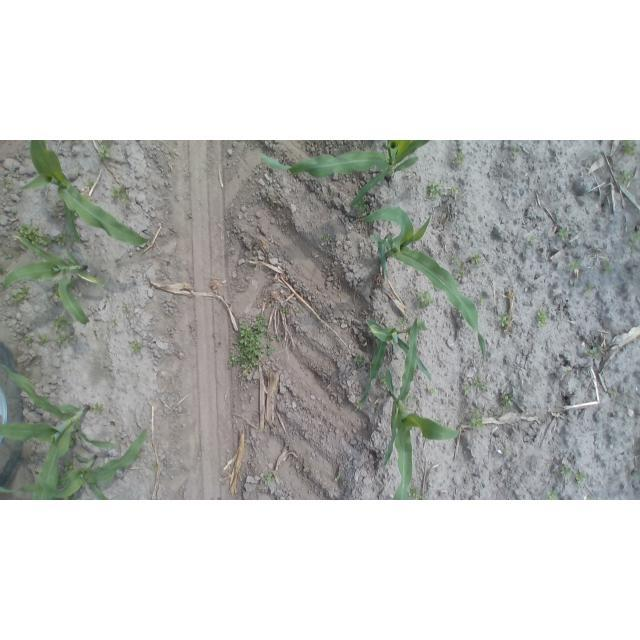Maize: (365, 207, 491, 370), (379, 320, 463, 500), (15, 140, 153, 248), (1, 357, 88, 500), (259, 141, 434, 207), (2, 428, 150, 501), (1, 235, 102, 325), (359, 315, 433, 410)
Weeds: (226, 313, 276, 376), (19, 224, 53, 249), (10, 285, 31, 305), (54, 230, 78, 247), (52, 315, 73, 333), (111, 185, 132, 202), (500, 394, 515, 417), (418, 290, 435, 310), (468, 409, 484, 429), (56, 333, 77, 348), (628, 223, 640, 249), (599, 258, 615, 276), (427, 181, 442, 199), (536, 308, 550, 327), (620, 140, 636, 156), (98, 144, 113, 161), (556, 227, 572, 242), (498, 313, 512, 330), (408, 485, 425, 499), (456, 263, 469, 280), (471, 377, 488, 390), (470, 252, 484, 267), (584, 346, 600, 359), (453, 151, 466, 166), (619, 170, 634, 183), (575, 471, 586, 488), (560, 462, 573, 476), (358, 198, 369, 214), (568, 259, 581, 272), (264, 471, 277, 484), (130, 340, 142, 354), (404, 394, 416, 407), (547, 489, 561, 500), (52, 283, 60, 302), (378, 372, 388, 387), (63, 459, 75, 471), (92, 403, 105, 414), (585, 282, 596, 294), (69, 434, 78, 448), (528, 234, 539, 245), (3, 179, 14, 190), (353, 354, 363, 366), (450, 183, 459, 196), (320, 233, 330, 244), (511, 145, 522, 155), (23, 336, 33, 347), (280, 305, 290, 315), (86, 179, 97, 188), (39, 334, 50, 343), (356, 401, 365, 411), (463, 384, 472, 394), (427, 386, 437, 395), (334, 474, 343, 483), (122, 304, 131, 313), (610, 389, 618, 399), (502, 449, 510, 459), (397, 315, 405, 325), (433, 418, 443, 426), (263, 295, 272, 303), (150, 462, 158, 470), (70, 278, 78, 286), (450, 256, 459, 263), (478, 295, 485, 303), (565, 370, 573, 377), (73, 210, 80, 218), (111, 318, 117, 326), (265, 194, 271, 202), (187, 212, 193, 218), (297, 307, 302, 312), (279, 337, 284, 342), (588, 497, 593, 500)
